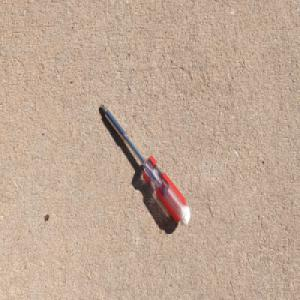Screwdriver: (98, 101, 192, 228)
